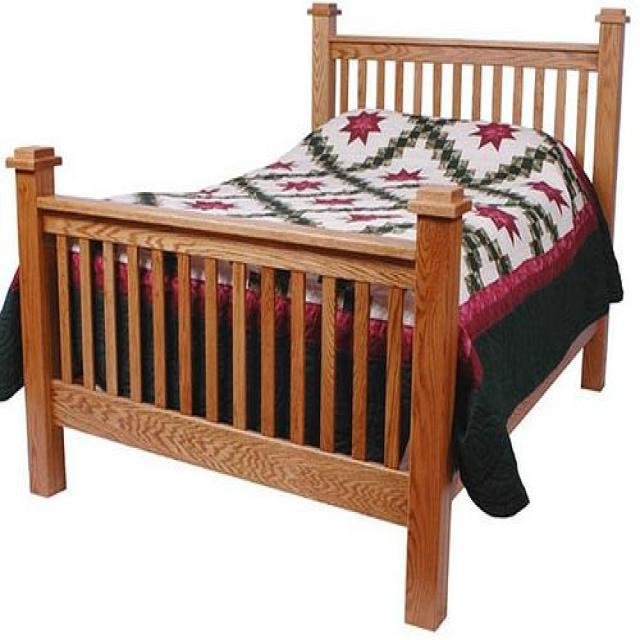bed: (5, 0, 629, 631)
